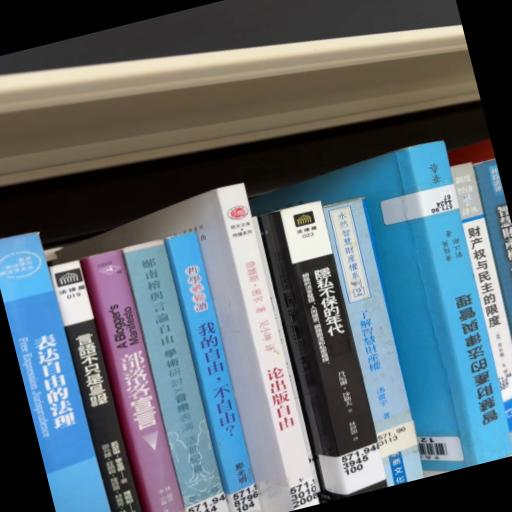reverse: (251, 142, 512, 472)
